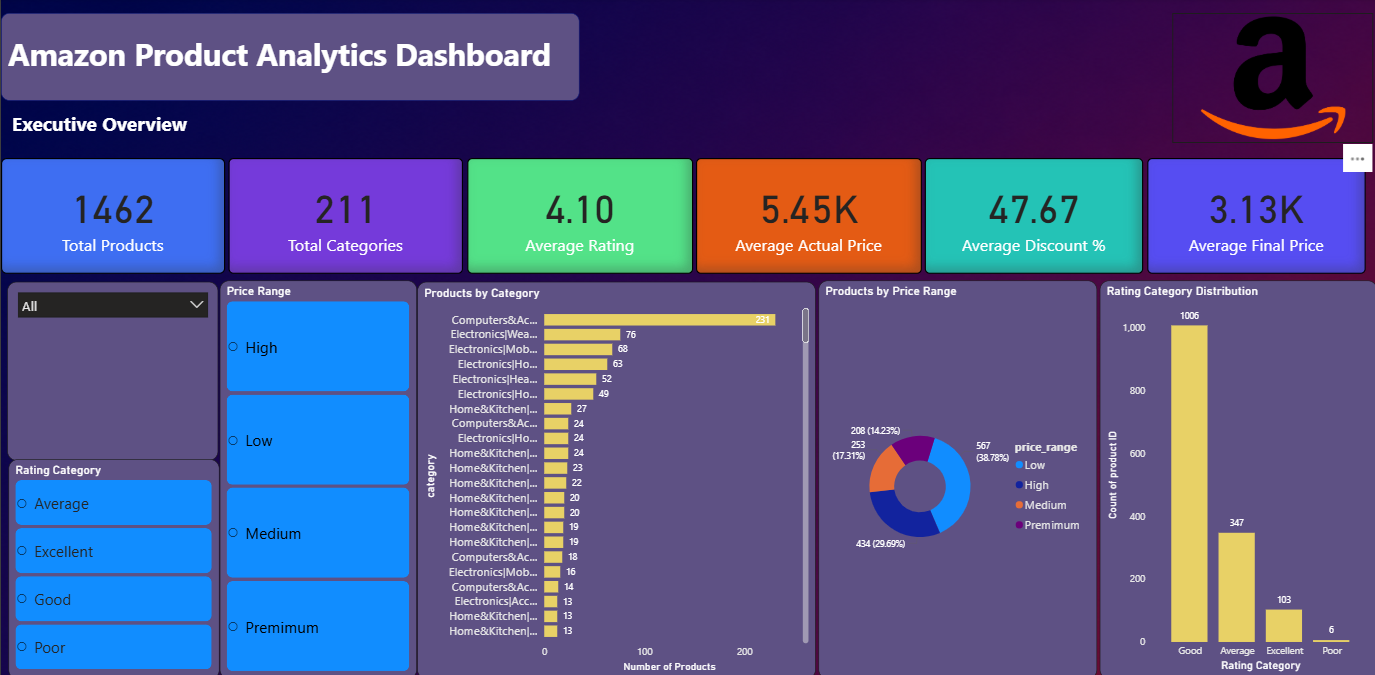

This screenshot's page, from the dashboard's own definition file:
{"tool":"powerbi","page":{"name":"Amazon Analytics ","canvas":[1920,950],"ordinal":0},"visuals":[{"type":"card","fields":{"Values":["public amazon_products.Total_Categories"]},"box":[317.2,223.6,327,161.2],"z":0},{"type":"card","fields":{"Values":["public amazon_products.Total_Products"]},"box":[0,223.6,313,161.2],"z":1000},{"type":"card","fields":{"Values":["public amazon_products.Average_Actual_Price"]},"box":[969.9,223.6,315,161.2],"z":2000},{"type":"card","fields":{"Values":["public amazon_products.Average_Rating"]},"box":[650.1,223.6,315,161.2],"z":3000},{"type":"card","fields":{"Values":["public amazon_products.Average_Discount"]},"box":[1289.7,223.6,305,161.2],"z":4000},{"type":"card","fields":{"Values":["public amazon_products.Average_Final_Price"]},"box":[1599.2,223.6,305,161.2],"z":5000},{"type":"clusteredBarChart","title":"Products by Category","fields":{"Category":["public amazon_products.category"],"Y":["CountNonNull(public amazon_products.product_id)"]},"box":[580.8,395.9,556.4,554.7],"z":6000},{"type":"donutChart","title":" Products by Price Range","fields":{"Category":["public amazon_products.price_range"],"Y":["CountNonNull(public amazon_products.product_id)"]},"box":[1140.7,394.2,389,556.4],"z":7000},{"type":"clusteredColumnChart","title":"Rating Category Distribution","fields":{"Category":["public amazon_products.rating_category"],"Y":["CountNonNull(public amazon_products.product_id)"]},"box":[1533.1,394.2,387.2,556.4],"z":8000},{"type":"slicer","title":"Category","fields":{"Values":["public amazon_products.category"]},"box":[8.7,395.9,294.8,249.4],"z":9000},{"type":"listSlicer","title":"Price Range","fields":{"Values":["public amazon_products.price_range"]},"box":[305.2,394.2,275.6,556.4],"z":10000},{"type":"listSlicer","title":"Rating Category","fields":{"Values":["public amazon_products.rating_category"]},"box":[10.5,643.6,294.8,307],"z":11000},{"type":"textbox","box":[0,20.9,807.6,122.1],"z":12000},{"type":"textbox","box":[10.5,151.7,266.9,50.6],"z":13000},{"type":"image","box":[1634.3,20.9,281,181],"z":14000}]}

Visuals, with their boxes in screenshot pixels (x1, y1, x2, y2), scaled from the page's 1920x950 canvas onto the 1375x675 screenshot:
card - public amazon_products.Total_Categories: pyautogui.locateOnScreen(227, 159, 461, 273)
card - public amazon_products.Total_Products: pyautogui.locateOnScreen(0, 159, 224, 273)
card - public amazon_products.Average_Actual_Price: pyautogui.locateOnScreen(695, 159, 920, 273)
card - public amazon_products.Average_Rating: pyautogui.locateOnScreen(466, 159, 691, 273)
card - public amazon_products.Average_Discount: pyautogui.locateOnScreen(924, 159, 1142, 273)
card - public amazon_products.Average_Final_Price: pyautogui.locateOnScreen(1145, 159, 1364, 273)
"Products by Category" clusteredBarChart: pyautogui.locateOnScreen(416, 281, 814, 674)
" Products by Price Range" donutChart: pyautogui.locateOnScreen(817, 280, 1095, 674)
"Rating Category Distribution" clusteredColumnChart: pyautogui.locateOnScreen(1098, 280, 1374, 674)
"Category" slicer: pyautogui.locateOnScreen(6, 281, 217, 459)
"Price Range" listSlicer: pyautogui.locateOnScreen(219, 280, 416, 674)
"Rating Category" listSlicer: pyautogui.locateOnScreen(8, 457, 219, 674)
textbox: pyautogui.locateOnScreen(0, 15, 578, 102)
textbox: pyautogui.locateOnScreen(8, 108, 199, 144)
image: pyautogui.locateOnScreen(1170, 15, 1372, 143)
